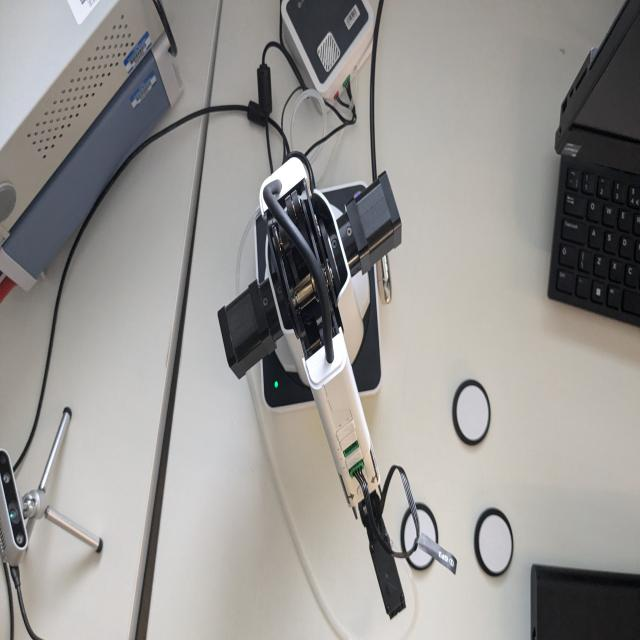Robot-end-effector-HF8z: (366, 526, 408, 622)
